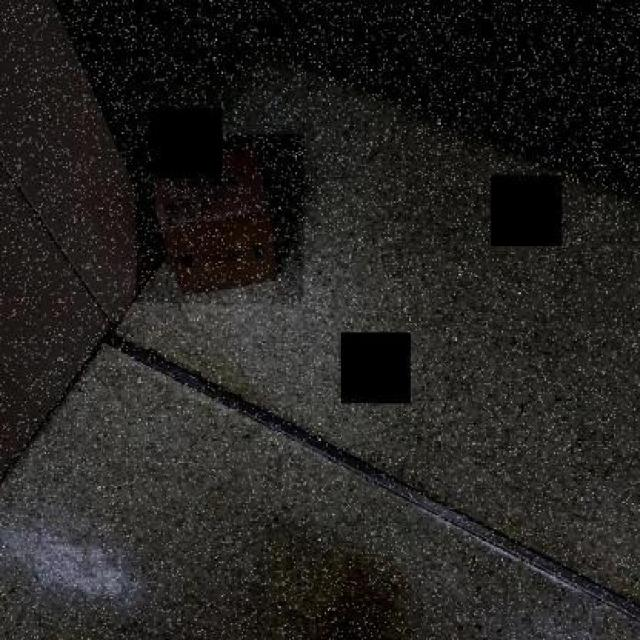box: (136, 134, 304, 306)
